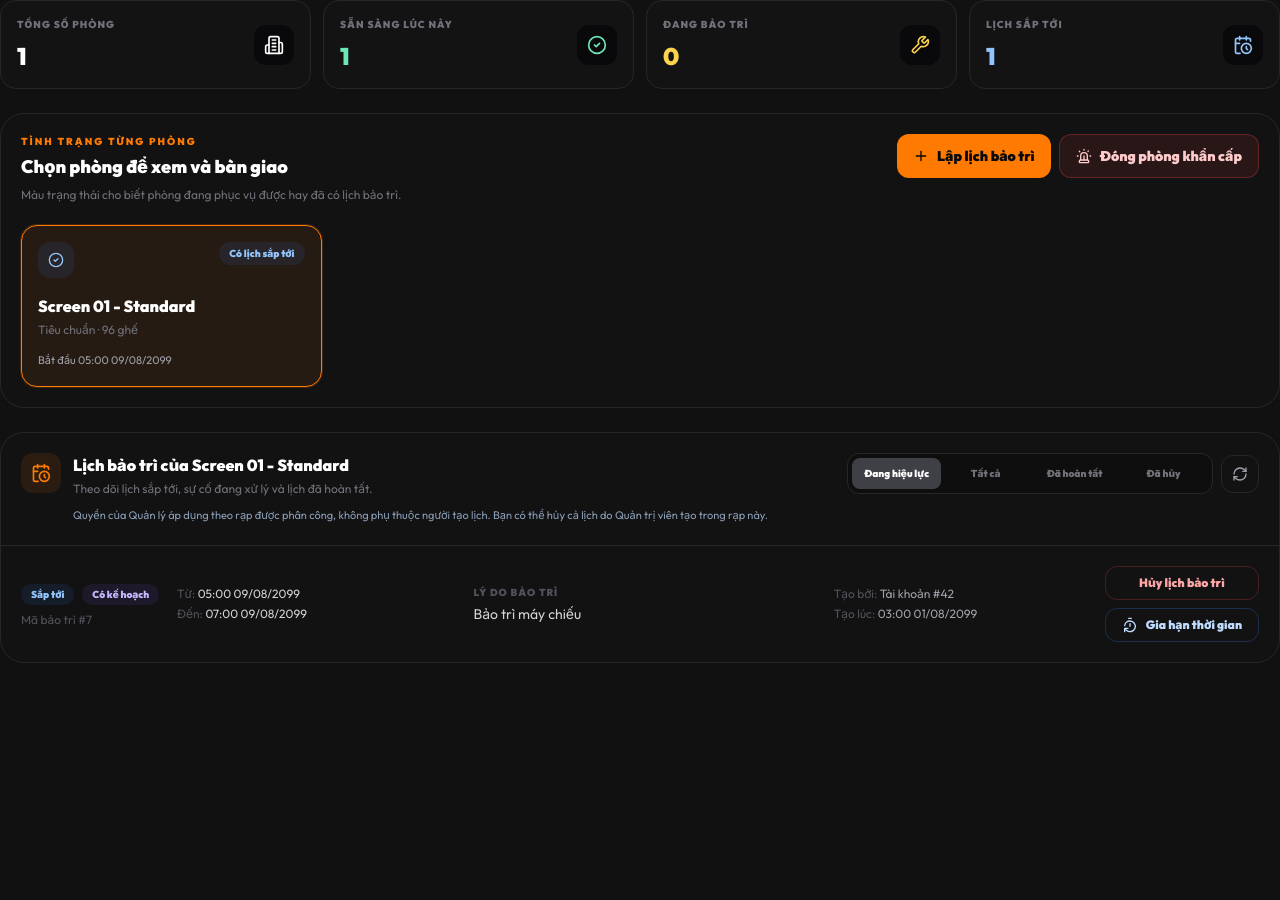
it: MaintenanceWorkspace › explains manager scope and requires an explicit acknowledgement before cancellation
Click the button "Hủy lịch bảo trì" at [1182, 583], box [1105,566,1259,600]
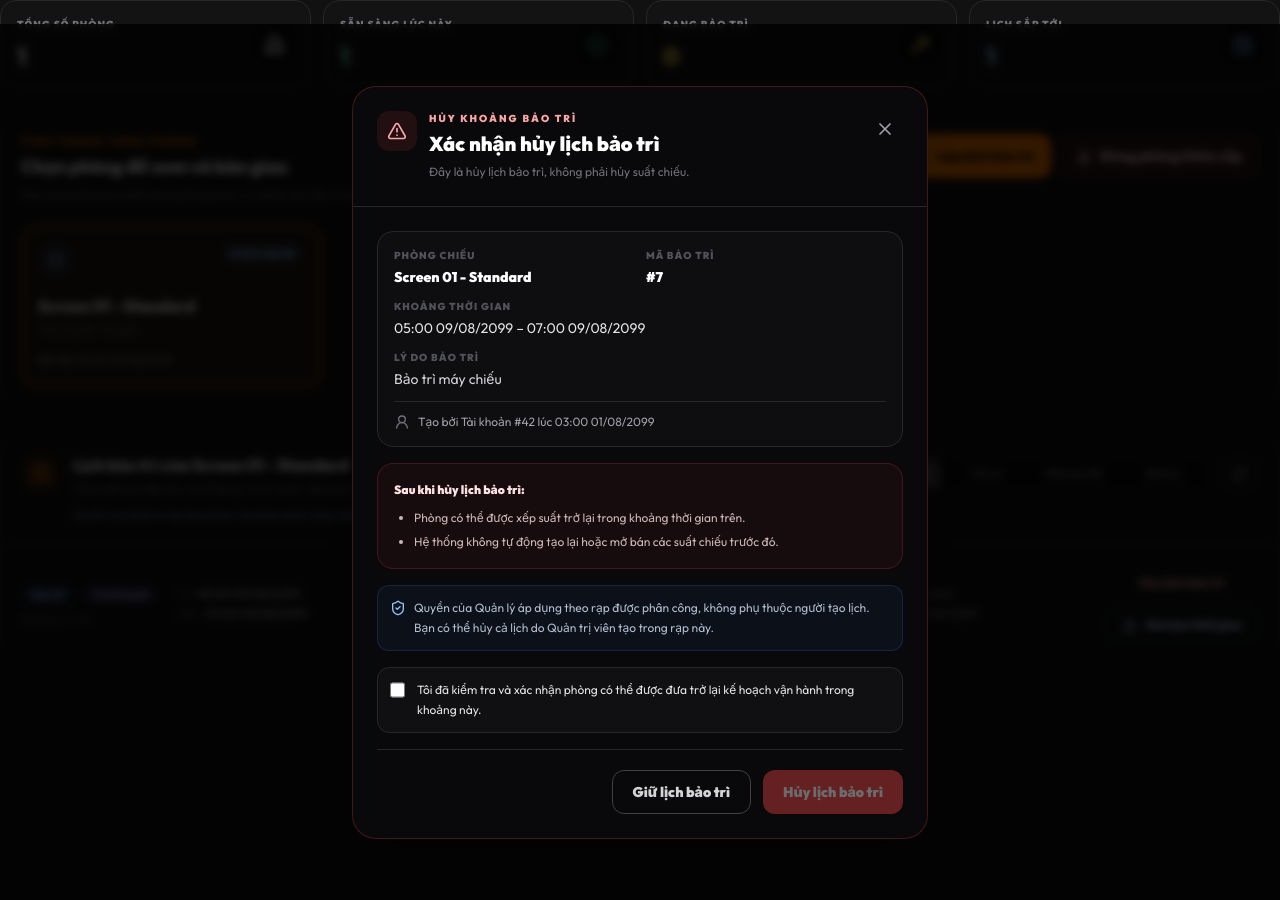
Expected: the text "Đây là hủy lịch bảo trì, không phải hủy suất chiếu." is shown, [429,162,690,182]
Expected: the text "Bạn có thể hủy cả lịch do Quản trị viên tạo trong rạp này" is shown, [414,600,870,634]
Expected: the text "Tạo bởi Tài khoản #42 lúc 03:00 01/08/2099" is shown, [394,400,886,430]
Click the checkbox at [398, 690], box [390,682,405,698]
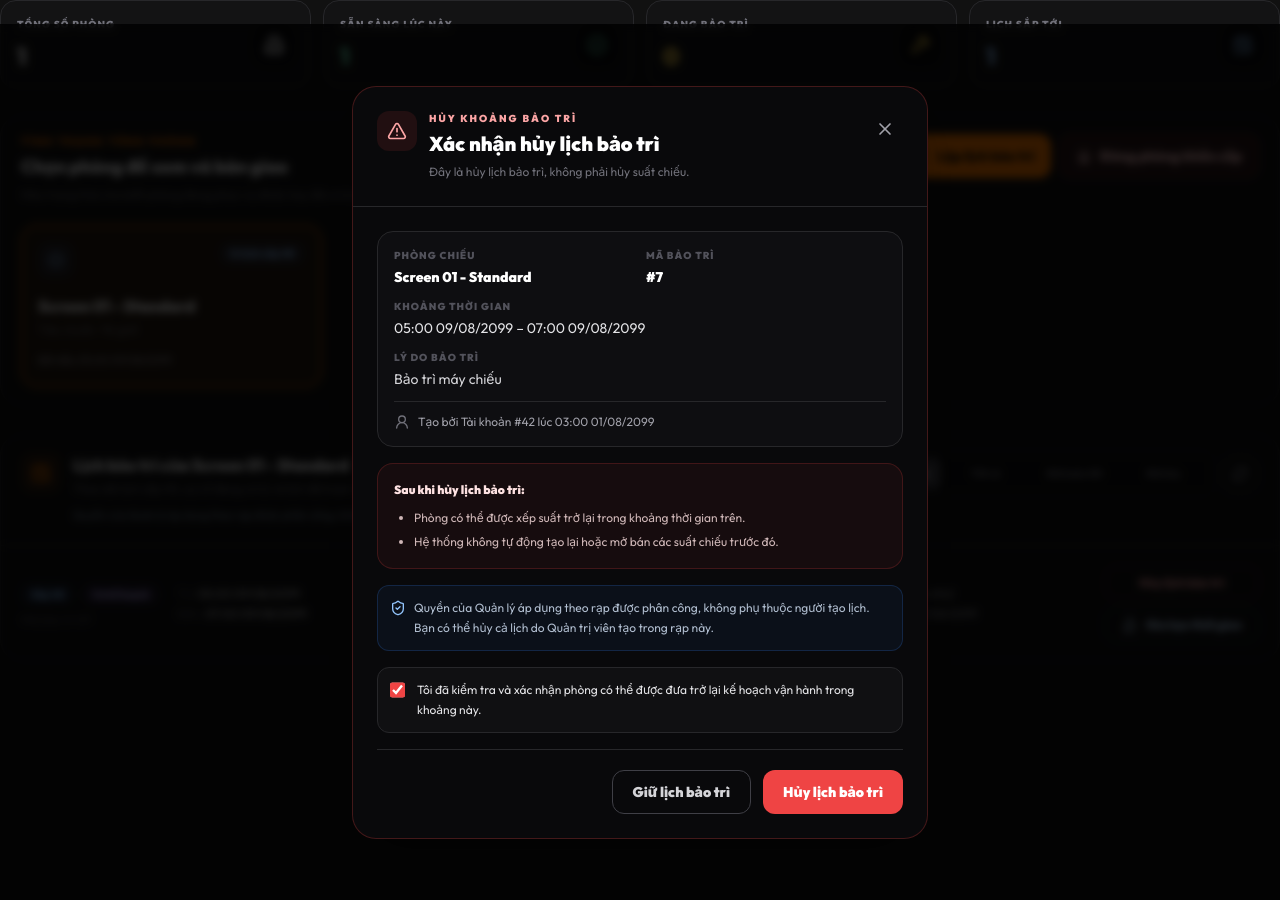
Expected: the button "Hủy lịch bảo trì" is enabled
Click the button "Hủy lịch bảo trì" at [833, 792], box [763,770,903,814]
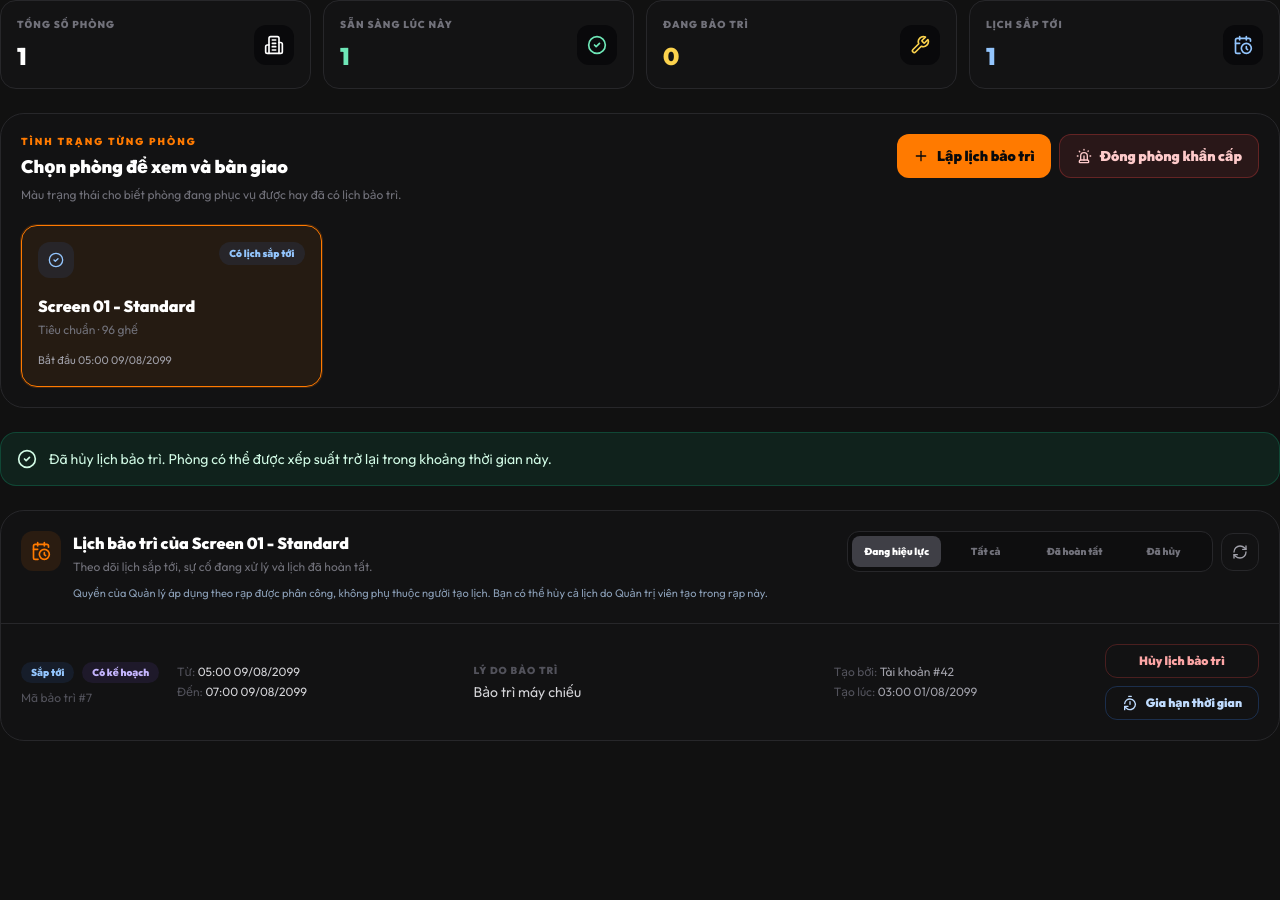
Expected: the message shows "Phòng có thể được xếp suất trở lại", [49,450,552,468]
